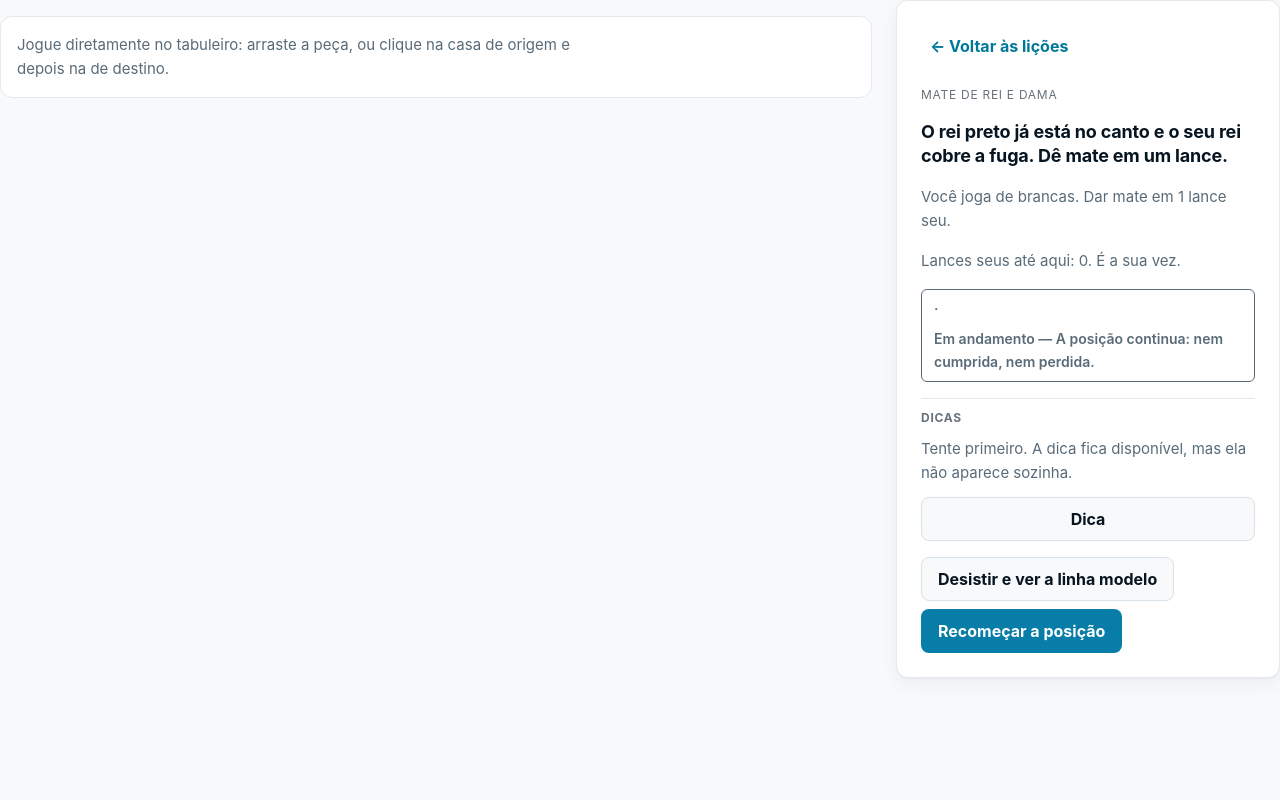
Test case: grava uma vez por tentativa › desistir grava a tentativa e manda a posição para a revisão vencida
The width and height of the screenshot is (1280, 800).
Step 1. Click the button "Desistir e ver a linha modelo" → [1048, 579], box [921, 557, 1174, 601]
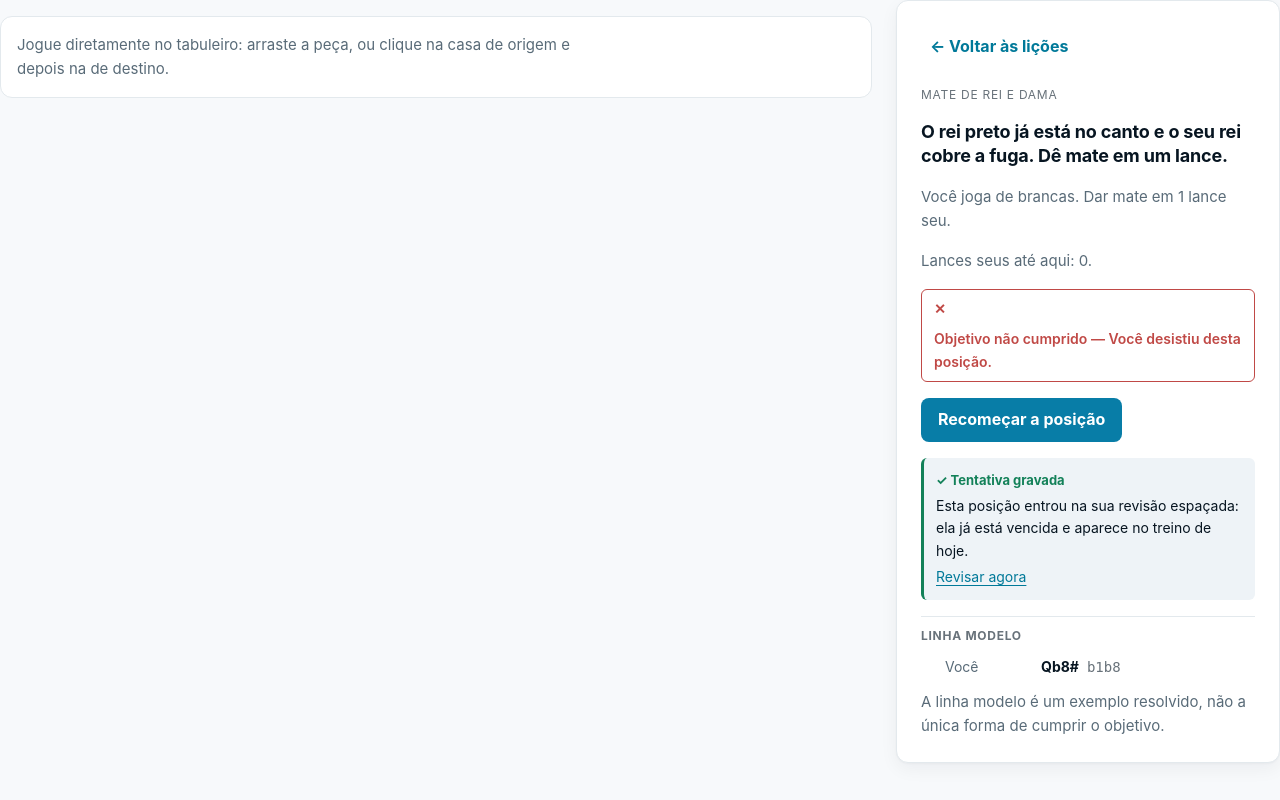
Now the text "✓ Tentativa gravada" is shown, box [936, 472, 1065, 488]
Now the text "já está vencida e aparece no treino de hoje" is shown, box [936, 497, 1239, 559]
